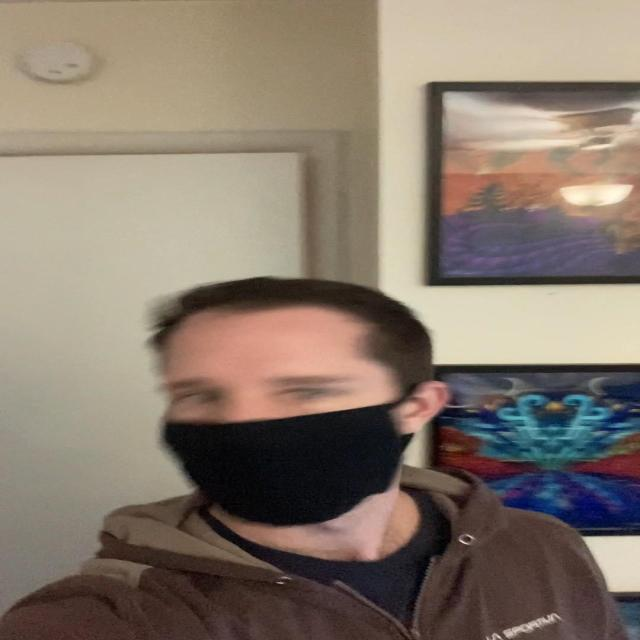no-helmet: (145, 295, 442, 549)
